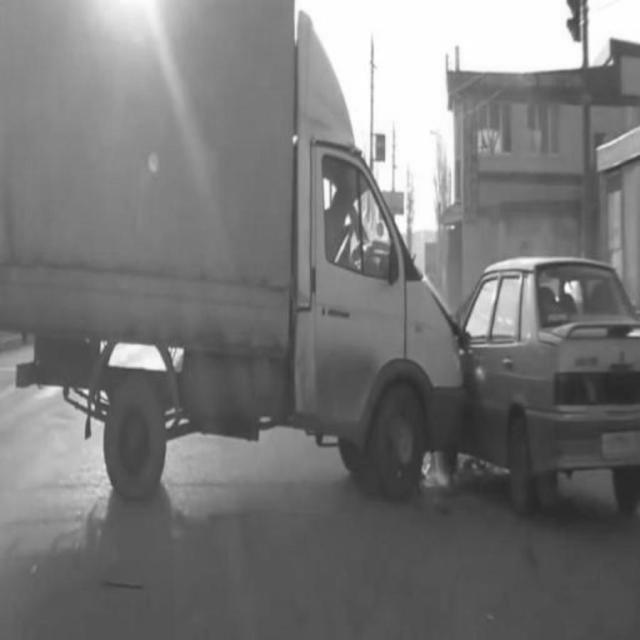accident: (16, 44, 640, 498)
